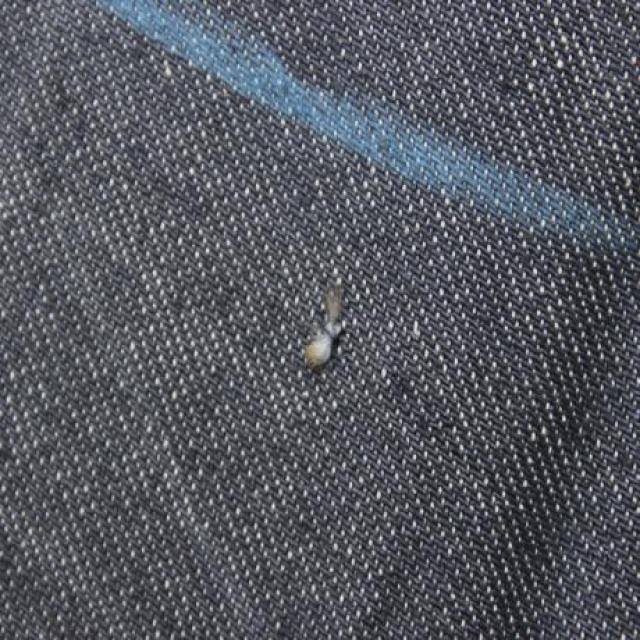stains: (164, 226, 432, 452)
